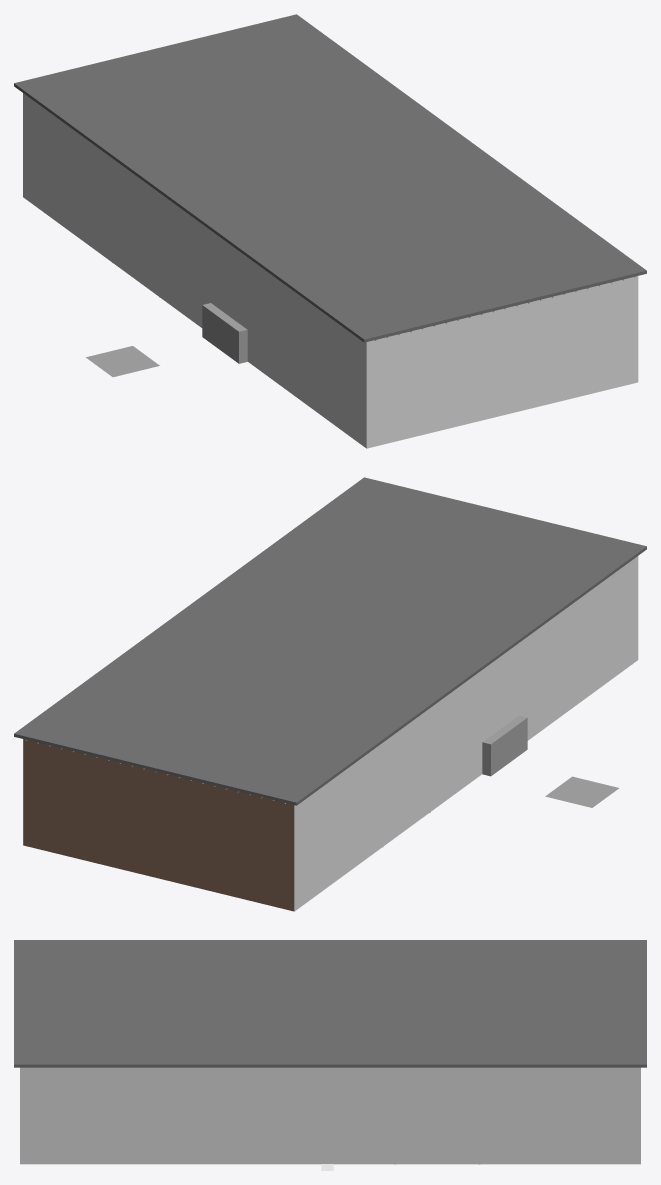
The model's file is Range_10m AP_Match.fbx.
The picture shows the model from 3 angles, top to bottom: view 1: azimuth 30°, elevation 25°; view 2: azimuth 150°, elevation 25°; view 3: azimuth 270°, elevation 25°; orthographic projection. The views are drawn at different scales.
Visible parts, largest first — view 1: Structure_1, Extra, Guides; view 2: Structure_1, Extra, Guides; view 3: Structure_1.
Boxes of the visible parts, box(x1,y1,x2,y2) form: Structure_1: box(14, 14, 646, 448); Extra: box(112, 262, 247, 363); Guides: box(86, 346, 159, 377); Structure_1: box(14, 477, 646, 911); Extra: box(383, 715, 527, 846); Guides: box(545, 776, 619, 807); Structure_1: box(14, 940, 646, 1164).
Bounding box in the file's own units: 68.77 × 18.75 × 103.
Materials: 35 (3 with a texture image).
